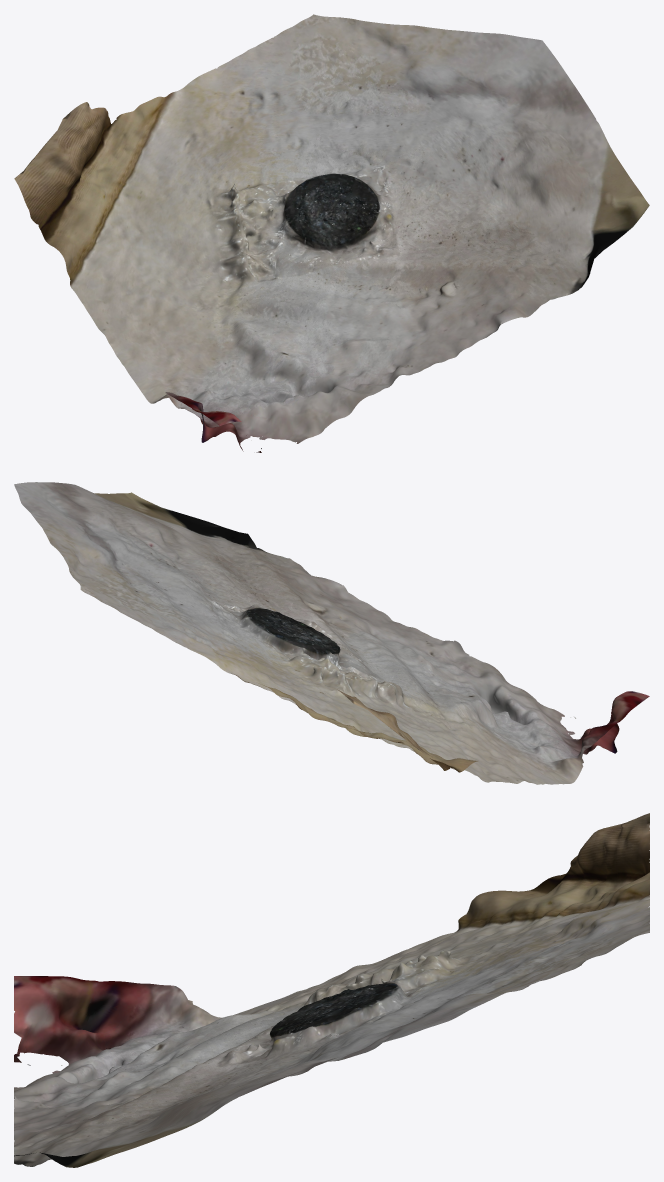
3 renders of one model, top to bottom at view 1: azimuth 30°, elevation 25°; view 2: azimuth 150°, elevation 25°; view 3: azimuth 270°, elevation 25°, orthographic. The views are drawn at different scales.
Size of the model in its own units: 2.01 by 0.9185 by 1.65.
Materials: 1 (1 with a texture image).
